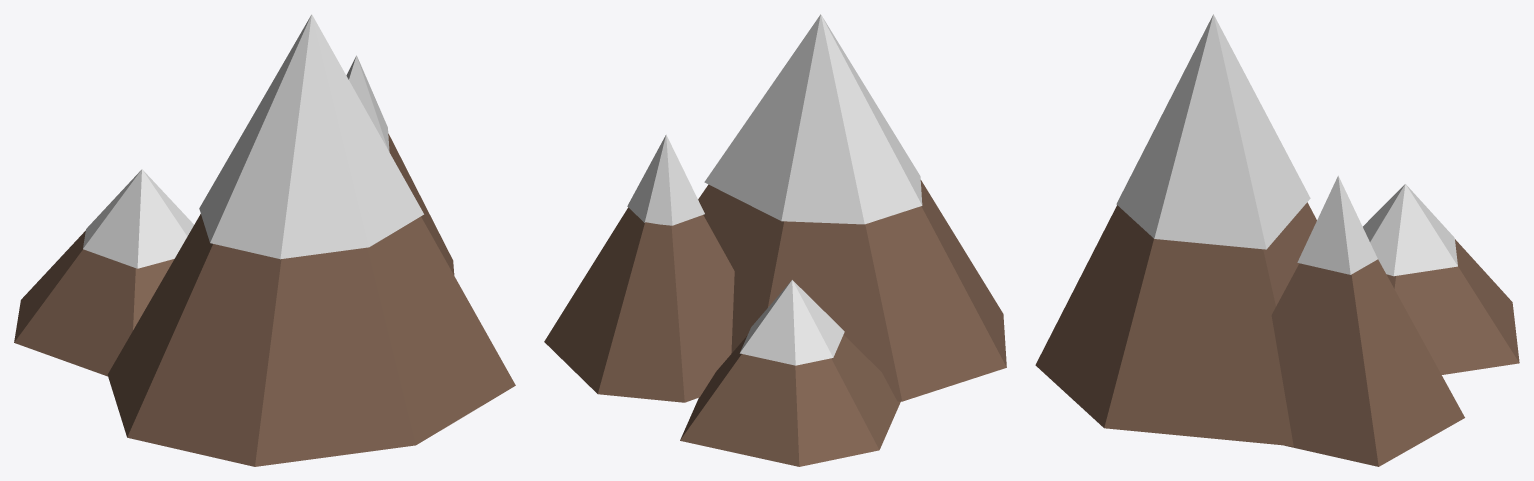
File: mountaintrueFBX.fbx
3 views of the same model, side by side, from view 1: azimuth 30°, elevation 25°; view 2: azimuth 150°, elevation 25°; view 3: azimuth 270°, elevation 25° (orthographic). The views are drawn at different scales.
Visible parts, largest first — view 1: Cone.001, Cone.005, Cone.002, Cone.004, Cone.003, Cone; view 2: Cone.001, Cone, Cone.005, Cone.002, Cone.004, Cone.003; view 3: Cone.001, Cone, Cone.005, Cone.002, Cone.004, Cone.003.
Part boxes in pixels (box(x1,y1,x2,y2)): Cone.001: box(107, 214, 515, 466); Cone.005: box(199, 14, 423, 259); Cone.002: box(14, 230, 174, 376); Cone.004: box(83, 169, 193, 268); Cone.003: box(346, 55, 389, 151); Cone: box(388, 133, 454, 275); Cone.001: box(698, 180, 1006, 401); Cone: box(544, 207, 734, 402); Cone.005: box(704, 14, 922, 224); Cone.002: box(680, 335, 900, 466); Cone.004: box(740, 280, 844, 365); Cone.003: box(627, 134, 704, 225); Cone.001: box(1035, 202, 1316, 446); Cone: box(1271, 259, 1464, 466); Cone.005: box(1116, 14, 1310, 249); Cone.002: box(1386, 239, 1519, 374); Cone.004: box(1363, 184, 1457, 276); Cone.003: box(1297, 175, 1377, 274).
Size of the model in its own units: 470 by 388 by 487.
